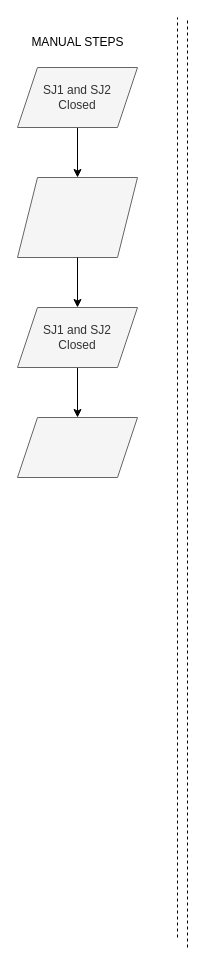
This 206x966 diagram has some shape labels left out. Each missing label, with the centre of its shape:
CM1 and CM2 loaded at >7.0 bar && <8 bar: [77,217]
Wait Feedback from PC & set AMI state: [77,447]
